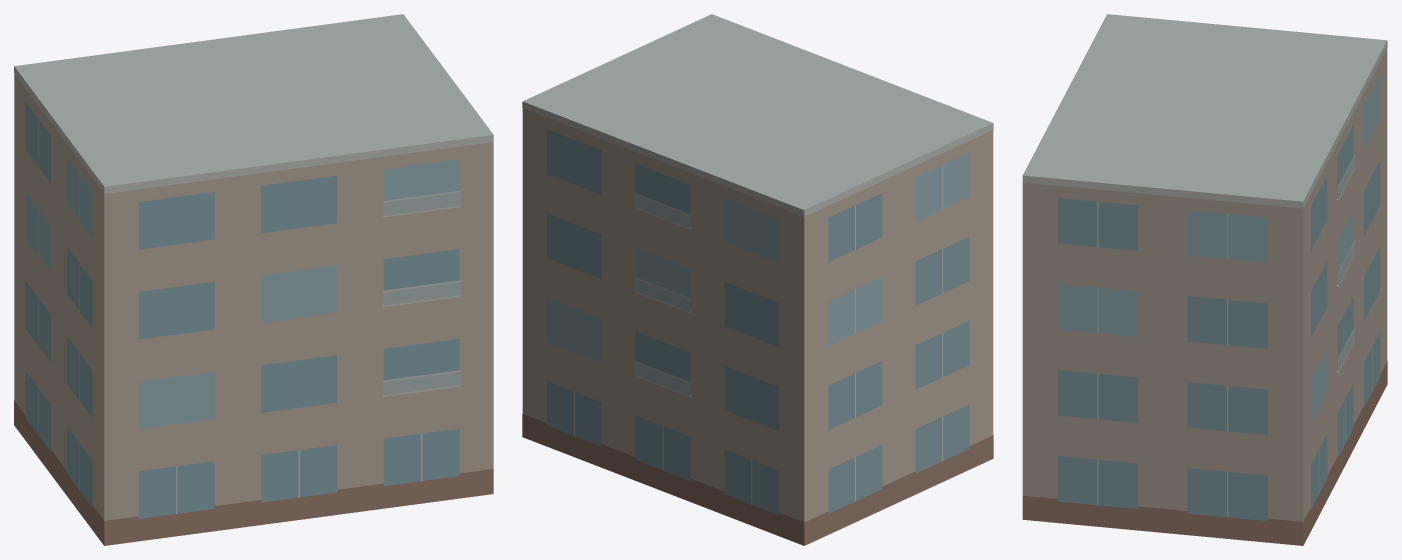
Rendered from residential-d2b7b3af-2a97-4ae3-90e4-5bc8c0c7f037.glb.
3 renders of one model, left to right at view 1: azimuth 30°, elevation 25°; view 2: azimuth 150°, elevation 25°; view 3: azimuth 270°, elevation 25°, orthographic. The views are drawn at different scales.
Parts seen in each view (by area): view 1: residential-d2b7b3af-2a97-4ae3-90e4-5bc8c0c7f037.tmp; view 2: residential-d2b7b3af-2a97-4ae3-90e4-5bc8c0c7f037.tmp; view 3: residential-d2b7b3af-2a97-4ae3-90e4-5bc8c0c7f037.tmp.
Boxes of the visible parts, <box> form: residential-d2b7b3af-2a97-4ae3-90e4-5bc8c0c7f037.tmp: <box>14,14,493,545</box>; residential-d2b7b3af-2a97-4ae3-90e4-5bc8c0c7f037.tmp: <box>522,14,993,545</box>; residential-d2b7b3af-2a97-4ae3-90e4-5bc8c0c7f037.tmp: <box>1022,14,1387,545</box>.
Size of the model in its own units: 14.28 by 12.2 by 11.73.
